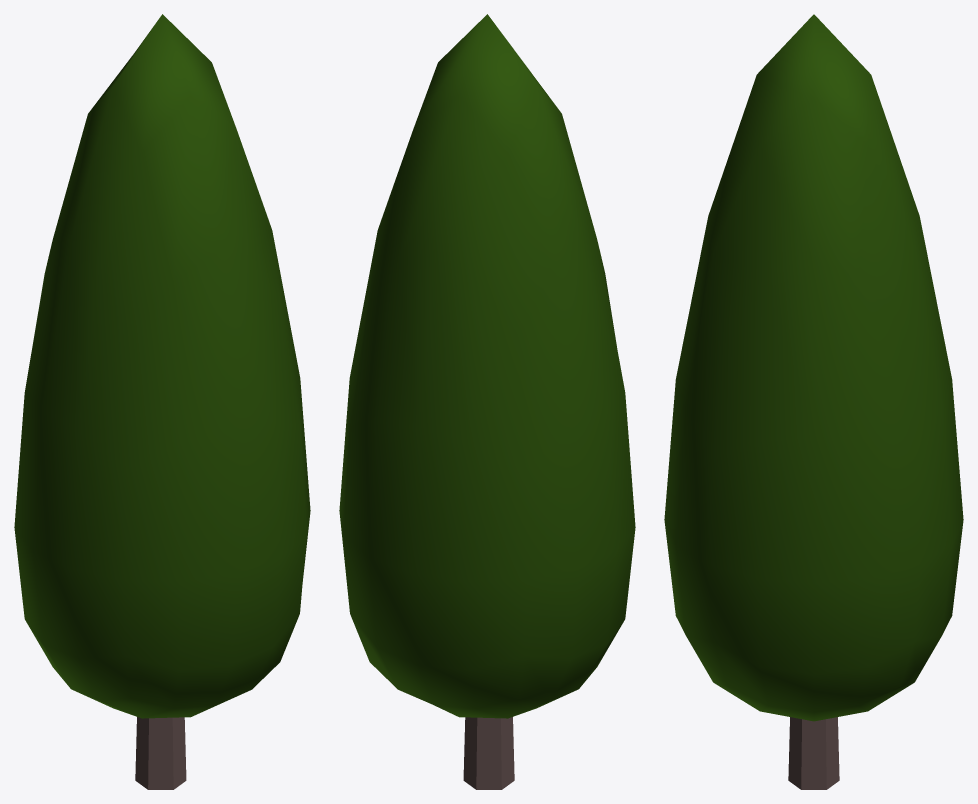
The model's file is PR_treeVar1_01.fbx.
3 views of the same model, side by side, from view 1: azimuth 30°, elevation 25°; view 2: azimuth 150°, elevation 25°; view 3: azimuth 270°, elevation 25° (orthographic).
Visible parts, largest first — view 1: Cube.003, PR_treeVar1_01; view 2: Cube.003, PR_treeVar1_01; view 3: Cube.003, PR_treeVar1_01.
Boxes of the visible parts, x1,y1,x2,y2 form: Cube.003: [14, 14, 310, 718]; PR_treeVar1_01: [135, 717, 186, 789]; Cube.003: [339, 14, 635, 718]; PR_treeVar1_01: [463, 717, 514, 789]; Cube.003: [664, 14, 963, 721]; PR_treeVar1_01: [788, 717, 839, 789].
Bounding box in the file's own units: 346 × 981 × 346.
